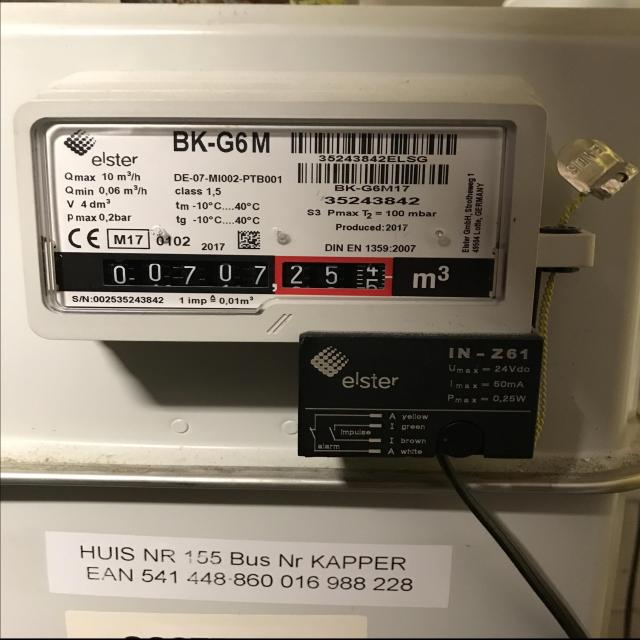gaz_meter: (42, 120, 504, 308)
indication: (85, 252, 394, 296)
